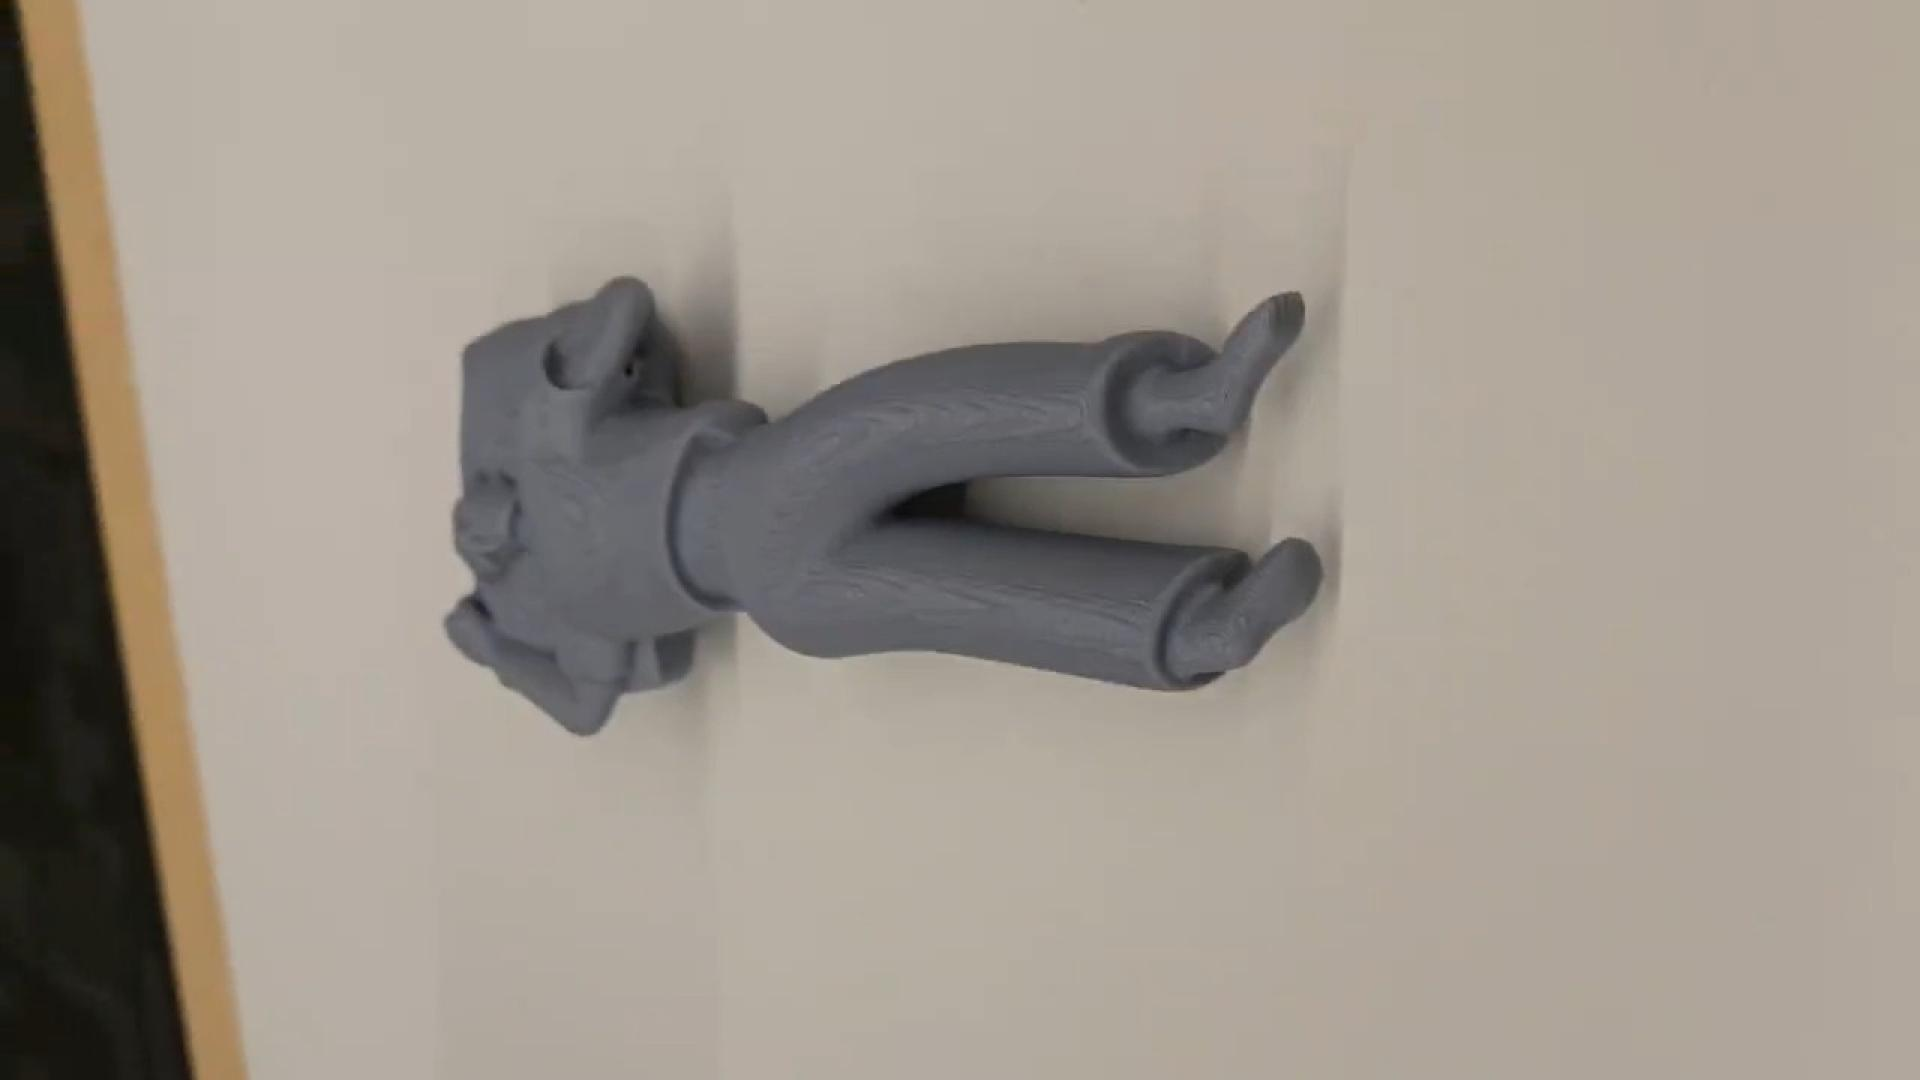Bad-style: (433, 264, 1332, 753)
